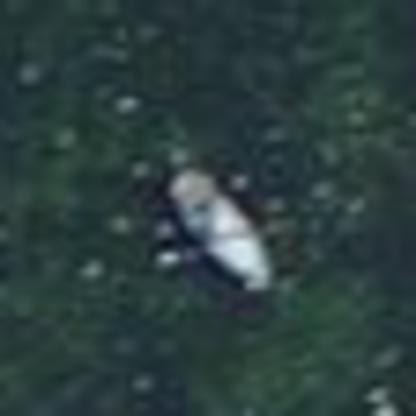ship: (152, 153, 293, 304)
